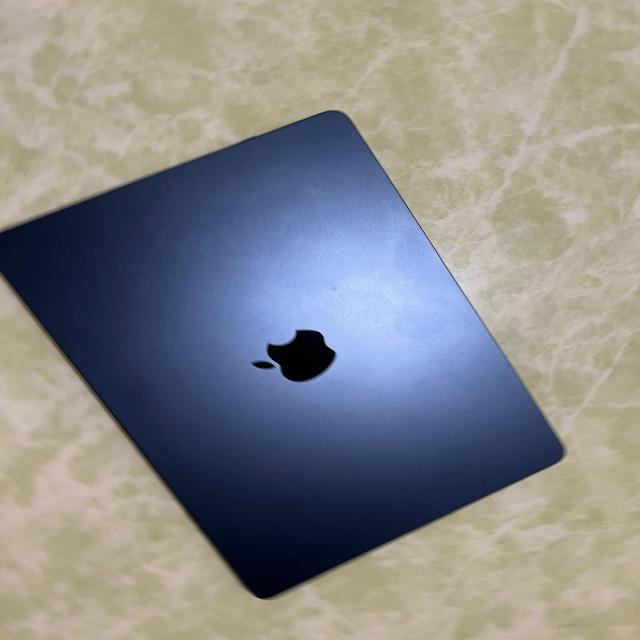laptop: (0, 108, 566, 599)
